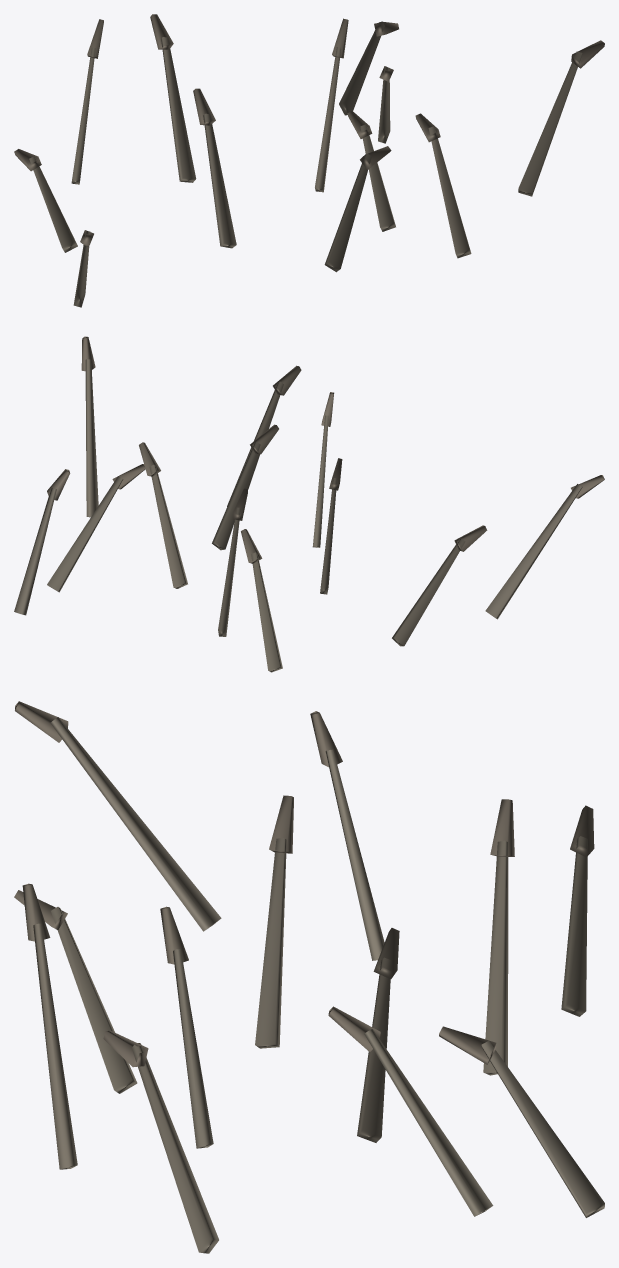
Rendered from farm_grain_withered.glb.
3 views of the same model, one above another, from view 1: azimuth 30°, elevation 25°; view 2: azimuth 150°, elevation 25°; view 3: azimuth 270°, elevation 25° (orthographic). The views are drawn at different scales.
Parts seen in each view (by area): view 1: FarmBody; view 2: FarmBody; view 3: FarmBody.
Boxes of the visible parts, x1,y1,x2,y2 form: FarmBody: [14, 14, 604, 307]; FarmBody: [14, 336, 604, 672]; FarmBody: [14, 701, 604, 1253].
Bounding box in the file's own units: 2.17 × 0.6599 × 1.36.
